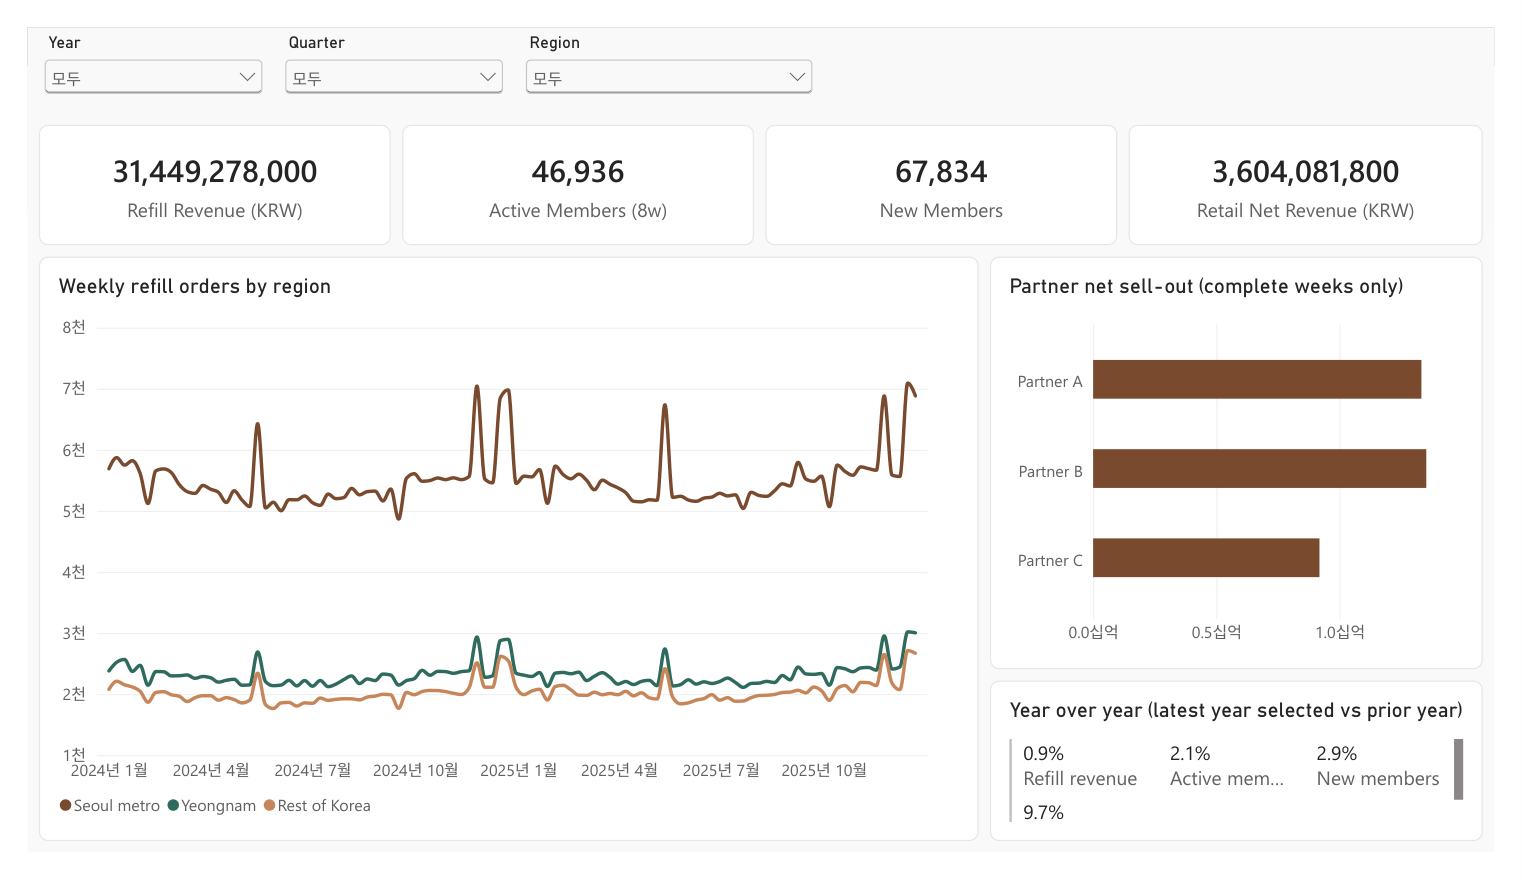

What the dashboard file says about the page in this screenshot:
{"tool":"powerbi","page":{"name":"1 Overview","canvas":[1280,720],"ordinal":0},"visuals":[{"type":"slicer","fields":{"Values":["Dim Week.iso_year"]},"box":[10,5,200,75],"z":0},{"type":"slicer","fields":{"Values":["Dim Week.quarter"]},"box":[220,5,200,75],"z":1000},{"type":"slicer","fields":{"Values":["Dim Region.region_name"]},"box":[430,5,260,75],"z":2000},{"type":"card","fields":{"Values":["_Measures.Refill Revenue (KRW)"]},"box":[10,85,307,105],"z":3000},{"type":"card","fields":{"Values":["_Measures.Active Members (8w)"]},"box":[327,85,307,105],"z":4000},{"type":"card","fields":{"Values":["_Measures.New Members"]},"box":[644,85,307,105],"z":5000},{"type":"card","fields":{"Values":["_Measures.Retail Net Revenue (KRW)"]},"box":[961,85,309,105],"z":6000},{"type":"lineChart","title":"Weekly refill orders by region","fields":{"Category":["Dim Week.week_start"],"Series":["Dim Region.region_name"],"Y":["_Measures.Refill Orders"]},"box":[10,200,820,510],"z":7000},{"type":"clusteredBarChart","title":"Partner net sell-out (complete weeks only)","fields":{"Category":["Dim Store.partner"],"Y":["_Measures.Retail Net Revenue (KRW)"]},"box":[840,200,430,360],"z":8000},{"type":"multiRowCard","title":"Year over year (latest year selected vs prior year)","fields":{"Values":["_Measures.Refill Revenue YoY %","_Measures.Active Members YoY %","_Measures.New Members YoY %","_Measures.Retail Net Revenue YoY %"]},"box":[840,570,430,140],"z":9000}]}

Visuals, with their boxes in screenshot pixels (x1, y1, x2, y2), scaled from the page's 1280x720 canvas onto the 1522x880 screenshot:
slicer - Dim Week.iso_year: box=[12, 6, 250, 98]
slicer - Dim Week.quarter: box=[262, 6, 499, 98]
slicer - Dim Region.region_name: box=[511, 6, 820, 98]
card - _Measures.Refill Revenue (KRW): box=[12, 104, 377, 232]
card - _Measures.Active Members (8w): box=[389, 104, 754, 232]
card - _Measures.New Members: box=[766, 104, 1131, 232]
card - _Measures.Retail Net Revenue (KRW): box=[1143, 104, 1510, 232]
"Weekly refill orders by region" lineChart: box=[12, 244, 987, 868]
"Partner net sell-out (complete weeks only)" clusteredBarChart: box=[999, 244, 1510, 684]
"Year over year (latest year selected vs prior year)" multiRowCard: box=[999, 697, 1510, 868]
